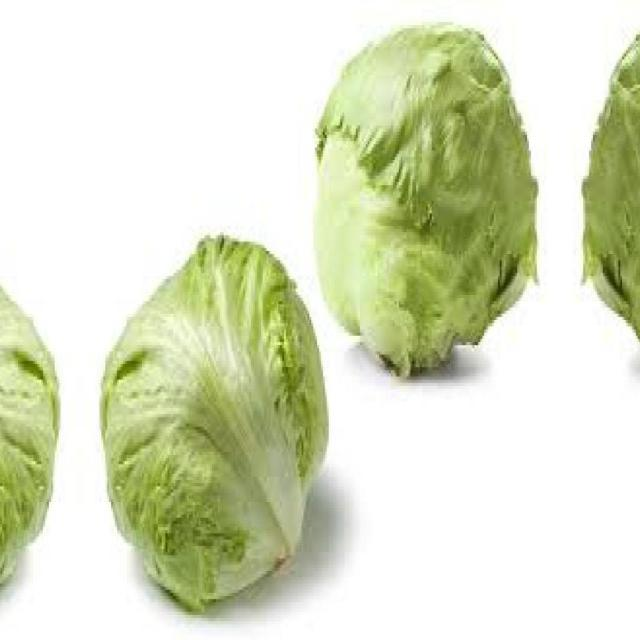healthy: (96, 226, 327, 612), (305, 20, 543, 392), (0, 226, 64, 611), (577, 20, 640, 392)
